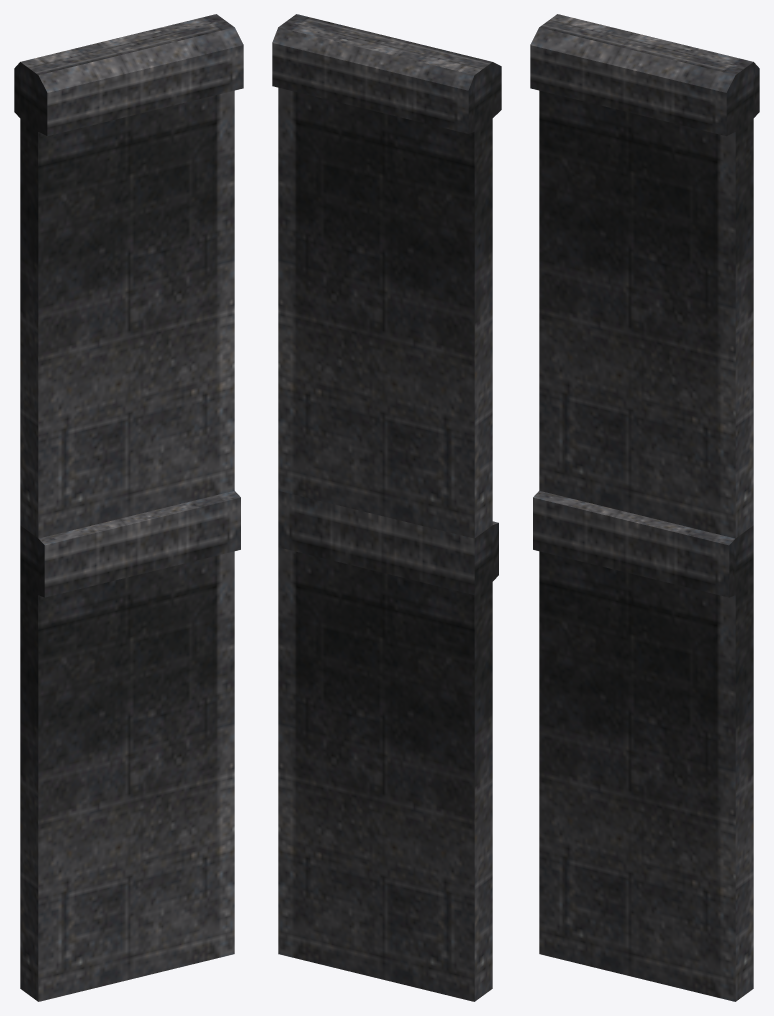
The picture shows the model from 3 angles, left to right: view 1: azimuth 30°, elevation 25°; view 2: azimuth 150°, elevation 25°; view 3: azimuth 330°, elevation 25°; orthographic projection.
Visible parts, largest first — view 1: wj1; view 2: wj1; view 3: wj1.
Boxes of the visible parts, bbox=[...] form: wj1: bbox=[14, 14, 243, 1001]; wj1: bbox=[272, 14, 501, 1001]; wj1: bbox=[530, 14, 759, 1001].
Size of the model in its own units: 228 by 1028 by 66.94.
